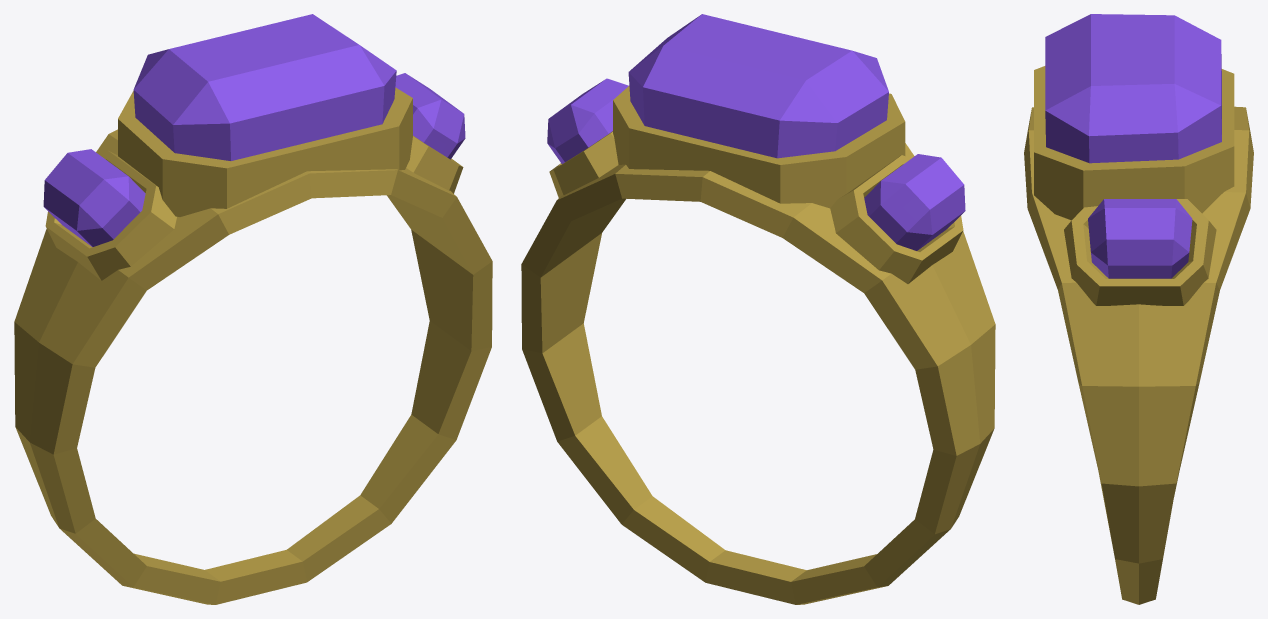
The model's file is Ring5.glb.
3 views of the same model, side by side, from view 1: azimuth 30°, elevation 25°; view 2: azimuth 150°, elevation 25°; view 3: azimuth 270°, elevation 25° (orthographic). The views are drawn at different scales.
Parts seen in each view (by area): view 1: Ring5; view 2: Ring5; view 3: Ring5.
Boxes of the visible parts, <box> form: Ring5: <box>14,14,492,604</box>; Ring5: <box>521,14,995,604</box>; Ring5: <box>1024,14,1253,604</box>.
Size of the model in its own units: 0.662 by 0.7723 by 0.3013.
